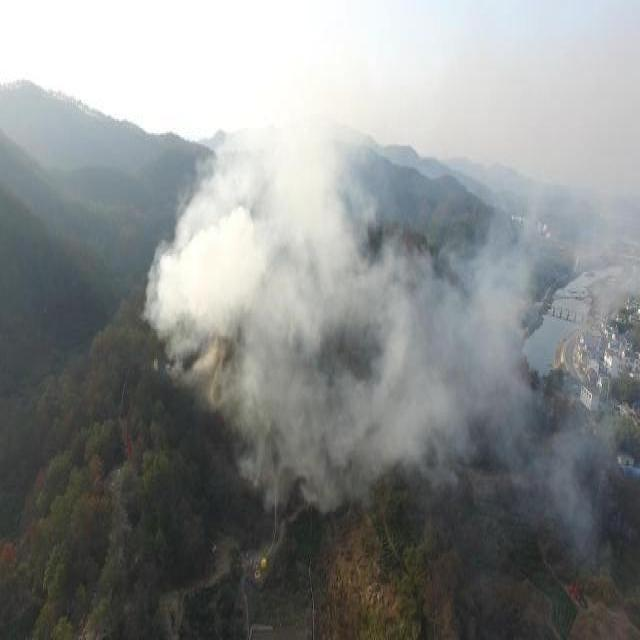Smoke: (140, 32, 640, 567)
